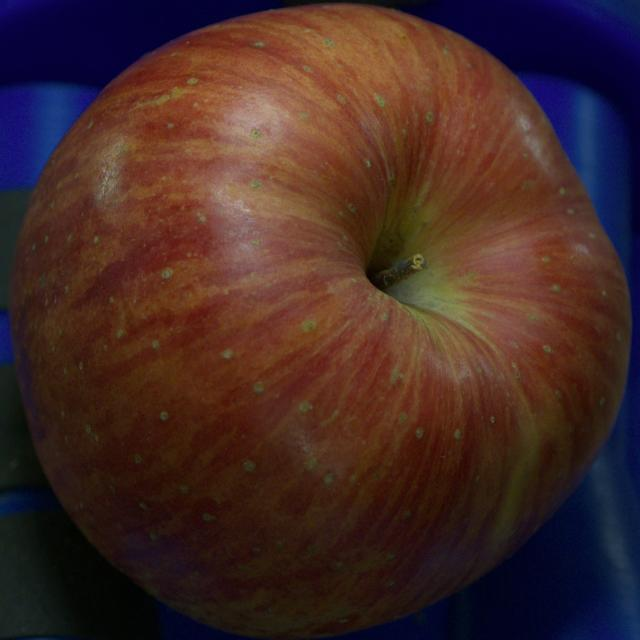apple: (8, 4, 631, 639)
